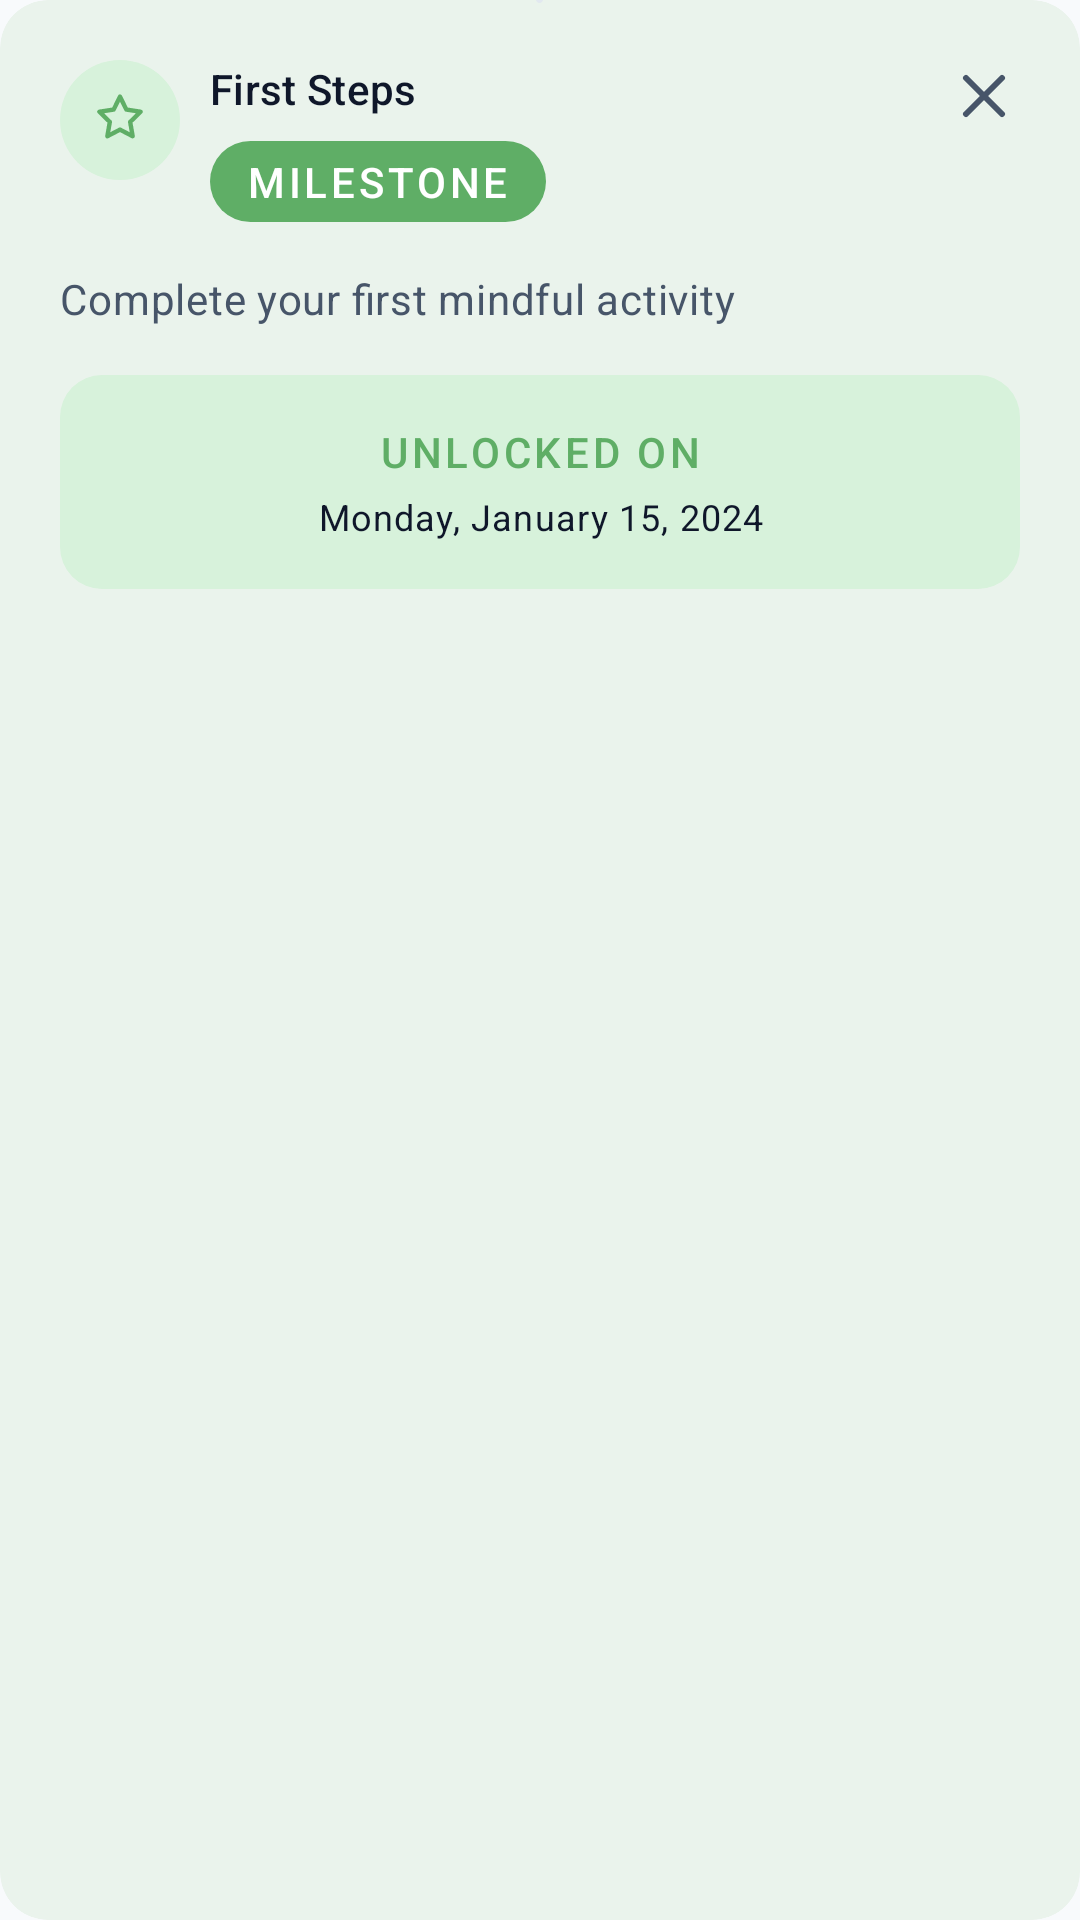

Icon bounding boxes for this 1080px×1920px phone screenshot, format (x1,y1,x2,y2):
close: (963,75,1005,117)
star badge: (97,94,143,139)
